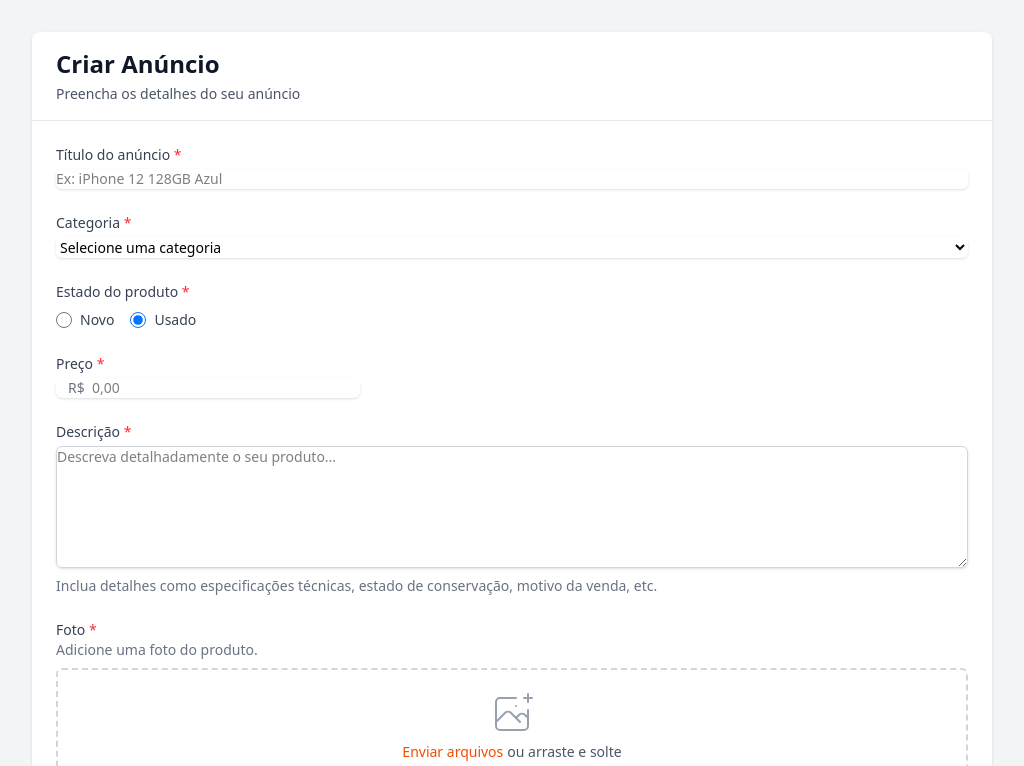
Test case: Anunciar Component › deve alternar entre estado Novo e Usado
The image size is (1024, 766).
Expected: the radio button labelled "Usado" is checked, [130,312,146,328]
Click the radio button labelled "Novo" at (64, 320), box [56,312,72,328]
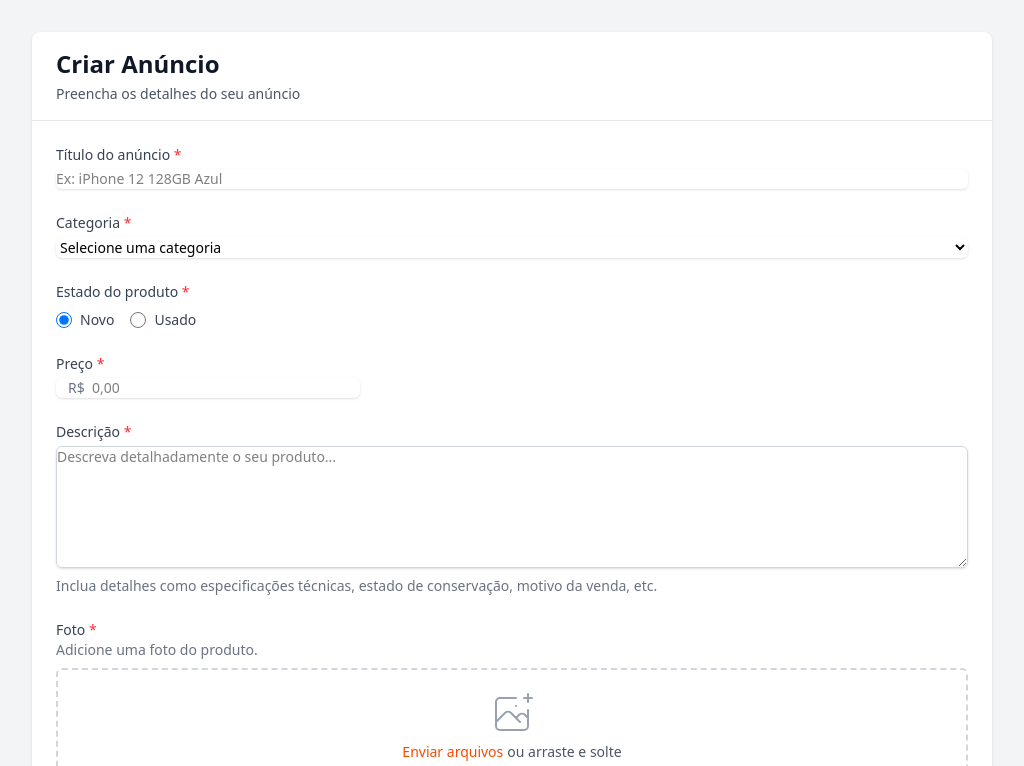
Expected: the radio button labelled "Novo" is checked, [56,312,72,328]
Expected: the radio button labelled "Usado" is not checked, [130,312,146,328]
